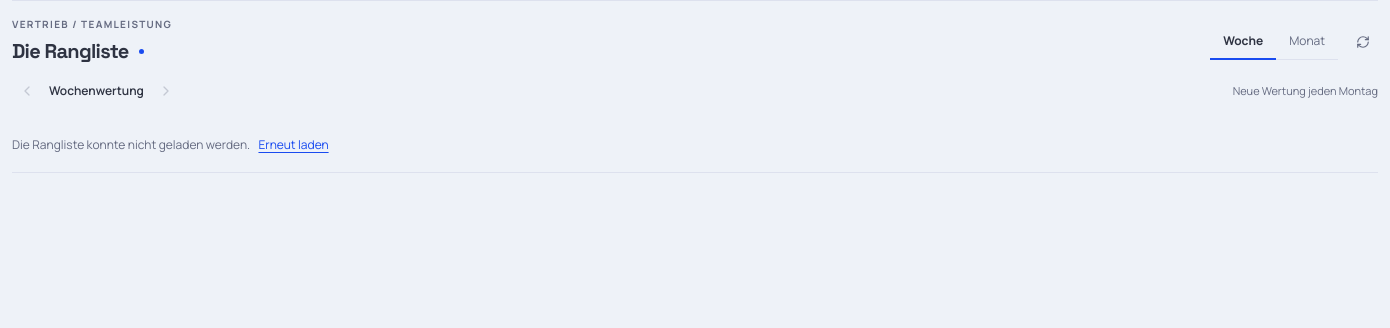
sales ranking › does not turn API errors into a zero-score ranking and allows a retry
The width and height of the screenshot is (1390, 328).
expect the message "Die Rangliste konnte nicht geladen werden. Erneut laden" is shown: met, box [12,136,335,154]
Click the button "Erneut laden" at coordinates (294, 145), box [252,136,335,154]
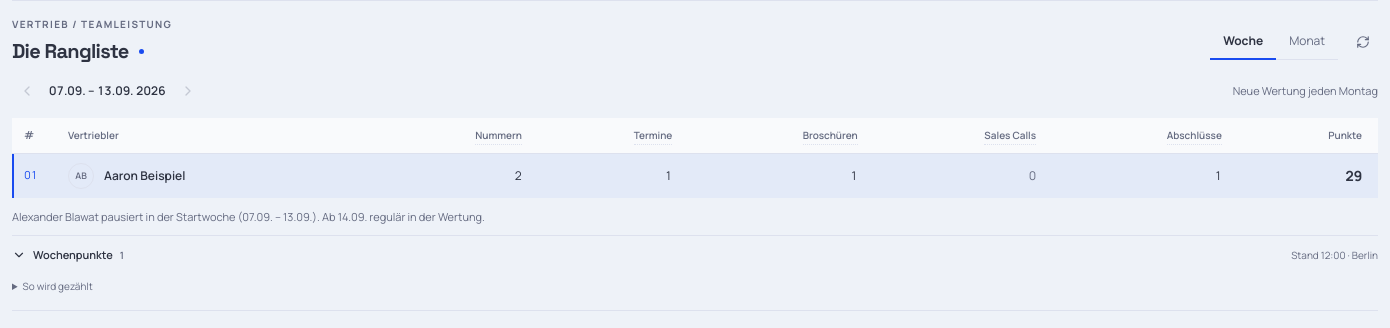
expect the text "Aaron Beispiel" is shown: met, box [104,166,185,184]
expect the message "Die Rangliste konnte nicht geladen werden. Erneut laden" is gone: met
